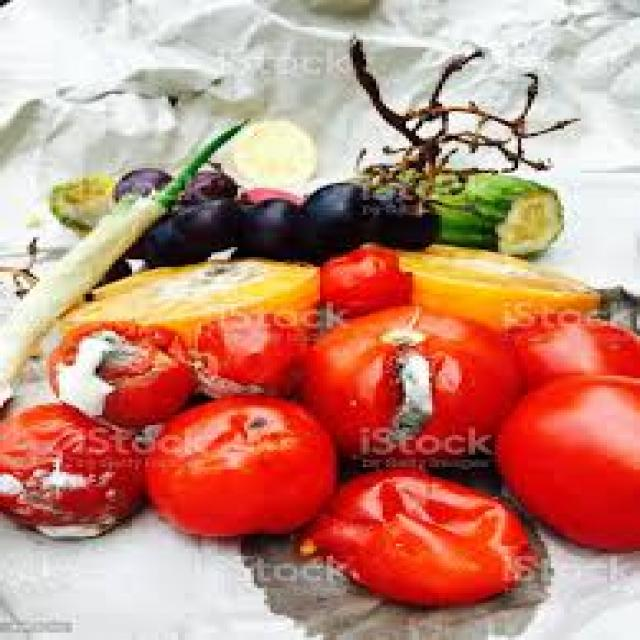organic waste: (0, 116, 244, 400), (340, 32, 574, 200), (290, 302, 518, 459), (290, 460, 528, 603), (135, 391, 333, 532), (492, 371, 636, 548), (56, 257, 320, 348), (0, 401, 142, 536), (392, 240, 594, 334), (43, 324, 195, 425), (399, 160, 561, 254), (501, 314, 637, 405), (192, 314, 300, 403), (317, 240, 412, 316), (300, 180, 370, 252), (363, 182, 435, 245), (43, 170, 112, 228), (241, 195, 303, 257), (168, 195, 241, 245), (135, 215, 205, 267), (172, 166, 238, 200), (106, 168, 162, 200), (238, 180, 294, 205), (96, 254, 132, 276)
